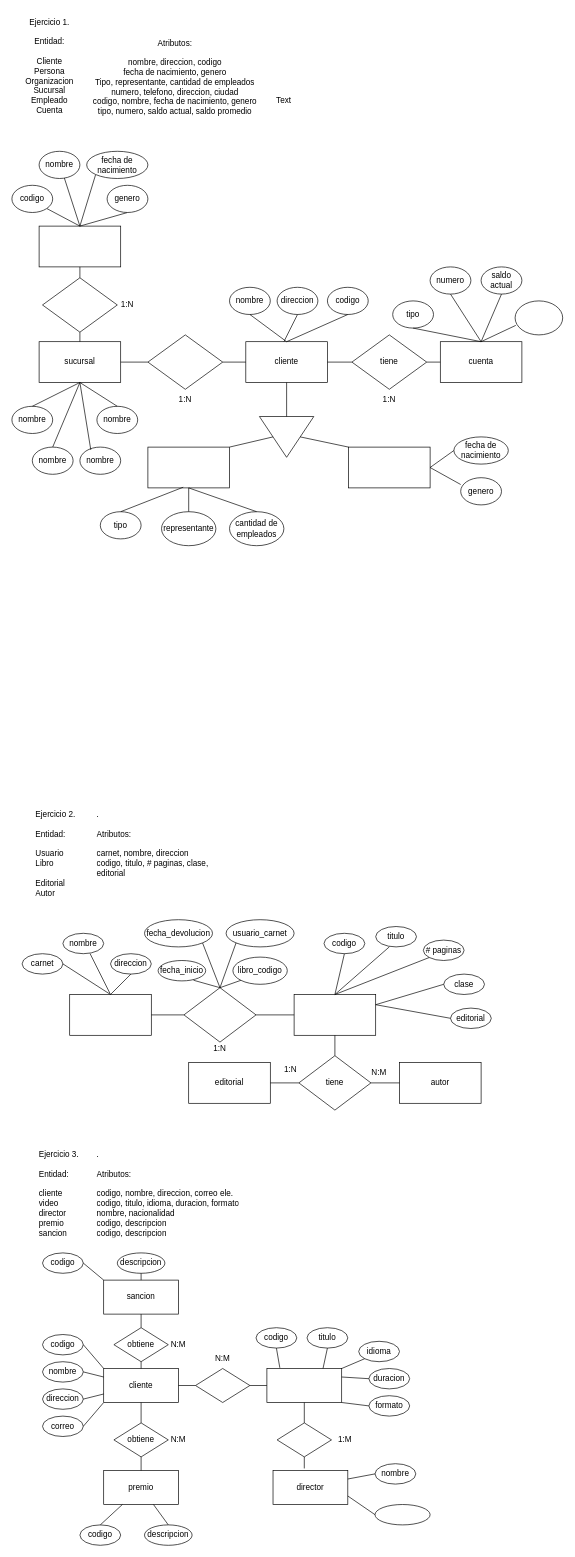
The diagram is 575 pixels wide and 1557 high, and some of its shapes have lost their labels. The shapes that lost their labels are listed below. From the top down, each one's box as (x1, y1, x2, y2) in pixels, then its label:
(38, 225, 121, 267): empleado
(42, 277, 117, 332): trabaja
(514, 300, 563, 335): saldo promedio
(147, 334, 223, 389): pertenece
(147, 446, 230, 488): organizacion
(348, 446, 430, 488): persona
(69, 994, 151, 1035): usuario
(183, 987, 256, 1042): presta
(293, 994, 376, 1035): libro
(195, 1368, 250, 1402): alquila
(266, 1368, 342, 1402): video
(276, 1422, 332, 1457): dirige
(374, 1504, 430, 1525): nacionalidad
